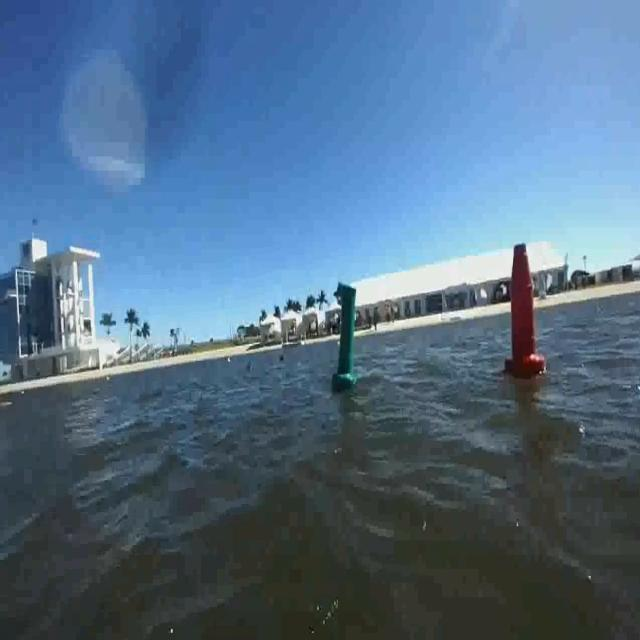green-column-buoy: (335, 282, 362, 390)
red-column-buoy: (502, 240, 544, 380)
